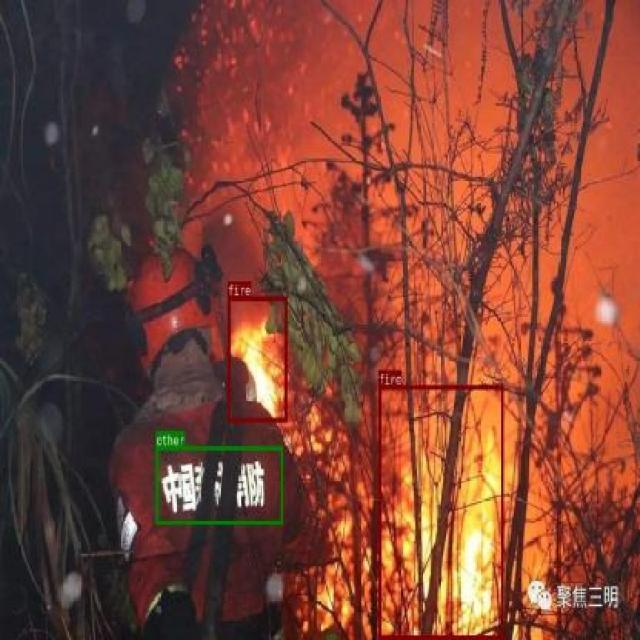Fire: (378, 384, 502, 638), (227, 296, 287, 422)
